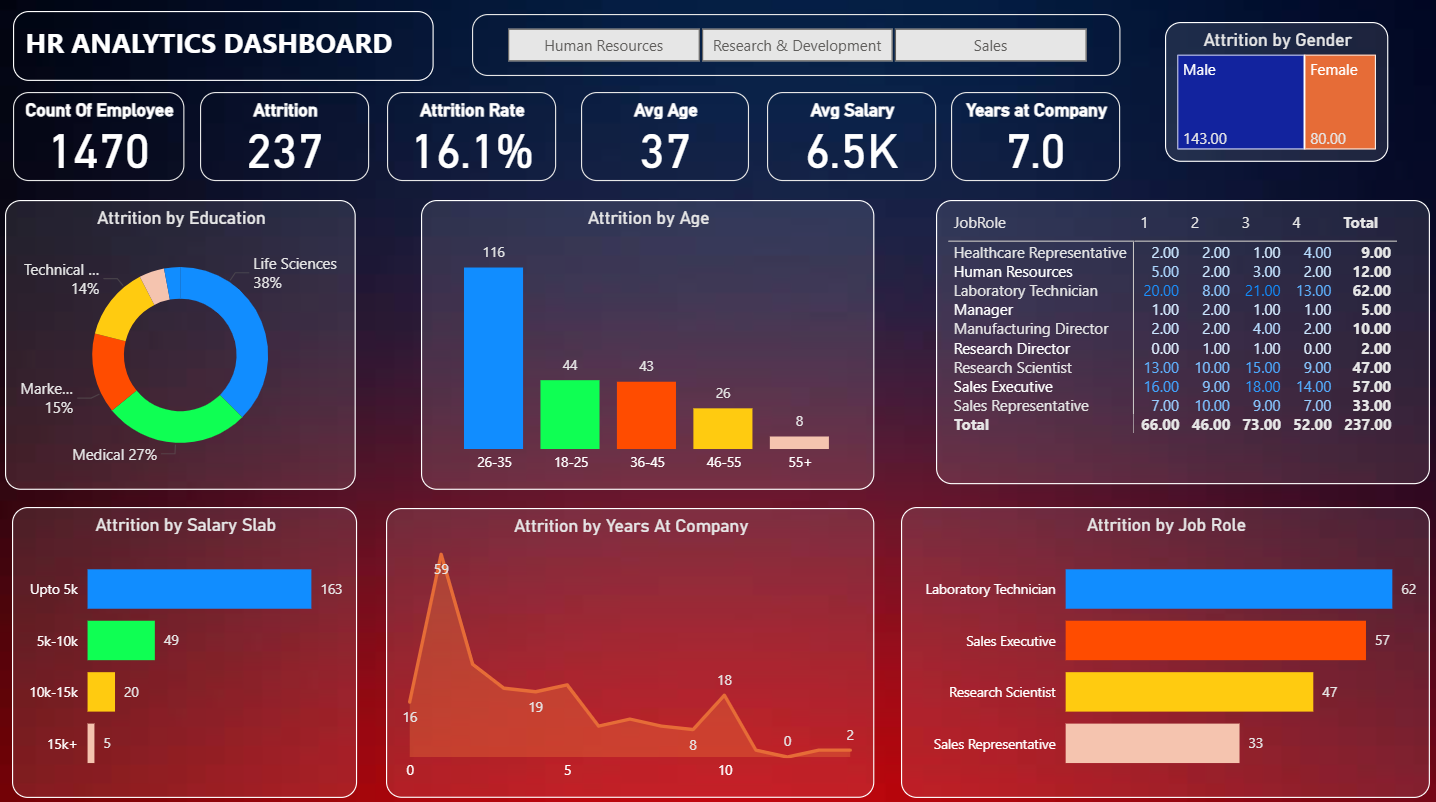

This screenshot's page, from the dashboard's own definition file:
{"tool":"powerbi","page":{"name":"Page 1","canvas":[1280,720],"ordinal":0},"visuals":[{"type":"card","title":"Count Of Employee","fields":{"Values":["CountNonNull(HR_Analytics.EmpID)"]},"box":[13.3,87.8,159.6,78.9],"z":0},{"type":"card","title":"Attrition","fields":{"Values":["Sum(HR_Analytics.AttritionCount)"]},"box":[184.4,87.8,149.9,78.9],"z":1000},{"type":"card","title":"Avg Age","fields":{"Values":["Avg(HR_Analytics.Age)"]},"box":[522.3,87.8,149,78.9],"z":2000},{"type":"card","title":"Attrition Rate","fields":{"Values":["HR_Analytics.AttritionRate"]},"box":[352,87.8,149.9,78.9],"z":3000},{"type":"card","title":"Years at Company","fields":{"Values":["Avg(HR_Analytics.YearsAtCompany)"]},"box":[863.6,87.8,149.9,78.9],"z":4000},{"type":"card","title":"Avg Salary","fields":{"Values":["Avg(HR_Analytics.MonthlyIncome)"]},"box":[695.2,87.8,149.9,78.9],"z":5000},{"type":"donutChart","title":"Attrition by Education","fields":{"Category":["HR_Analytics.EducationField"],"Y":["Sum(HR_Analytics.AttritionCount)"]},"box":[6,183.9,310.8,256.8],"z":6000},{"type":"columnChart","title":"Attrition by Age","fields":{"Category":["HR_Analytics.AgeGroup"],"Y":["Sum(HR_Analytics.AttritionCount)"]},"box":[374.7,183.9,401.7,256.8],"z":7000},{"type":"pivotTable","fields":{"Rows":["HR_Analytics.JobRole"],"Columns":["HR_Analytics.JobSatisfaction"],"Values":["Sum(HR_Analytics.AttritionCount)"]},"box":[831.4,183.9,437.7,251.8],"z":8000},{"type":"barChart","title":"Attrition by Salary Slab","fields":{"Category":["HR_Analytics.SalarySlab"],"Y":["Sum(HR_Analytics.AttritionCount)"]},"box":[12,455.6,305.8,257.8],"z":9000},{"type":"barChart","title":"Attrition by Job Role","fields":{"Category":["HR_Analytics.JobRole"],"Y":["Sum(HR_Analytics.AttritionCount)"]},"box":[800.4,455.6,468.6,257.8],"z":10000},{"type":"areaChart","title":"Attrition by Years At Company","fields":{"Category":["HR_Analytics.YearsAtCompany"],"Y":["Sum(HR_Analytics.AttritionCount)"]},"box":[343.7,456.6,432.7,256.8],"z":11000},{"type":"treemap","title":"Attrition by Gender","fields":{"Group":["HR_Analytics.Gender"],"Values":["Sum(HR_Analytics.AttritionCount)"]},"box":[1035.2,26,197.8,123.9],"z":12000},{"type":"slicer","fields":{"Values":["HR_Analytics.Department"]},"box":[420.7,19,574.6,55],"z":13000},{"type":"textbox","box":[13,16,372.7,62],"z":14000}]}

Visuals, with their boxes in screenshot pixels (x1, y1, x2, y2), scaled from the page's 1280x720 canvas onto the 1436x802 screenshot:
"Count Of Employee" card: [15,98,194,186]
"Attrition" card: [207,98,375,186]
"Avg Age" card: [586,98,753,186]
"Attrition Rate" card: [395,98,563,186]
"Years at Company" card: [969,98,1137,186]
"Avg Salary" card: [780,98,948,186]
"Attrition by Education" donutChart: [7,205,355,491]
"Attrition by Age" columnChart: [420,205,871,491]
pivotTable - HR_Analytics.JobRole x HR_Analytics.JobSatisfaction: [933,205,1424,485]
"Attrition by Salary Slab" barChart: [13,507,357,795]
"Attrition by Job Role" barChart: [898,507,1424,795]
"Attrition by Years At Company" areaChart: [386,509,871,795]
"Attrition by Gender" treemap: [1161,29,1383,167]
slicer - HR_Analytics.Department: [472,21,1117,82]
textbox: [15,18,433,87]
